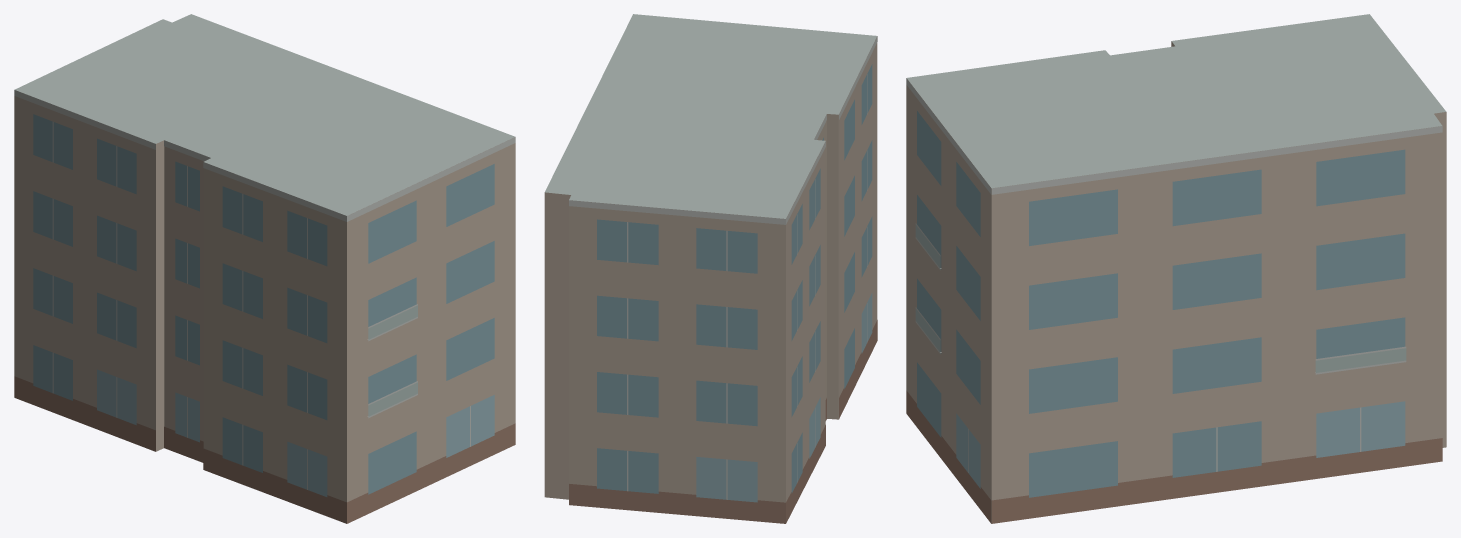
The model's file is survey-upis-32612482.glb.
3 views of the same model, side by side, from view 1: azimuth 30°, elevation 25°; view 2: azimuth 150°, elevation 25°; view 3: azimuth 270°, elevation 25° (orthographic). The views are drawn at different scales.
Visible parts, largest first — view 1: survey-upis-32612482.tmp; view 2: survey-upis-32612482.tmp; view 3: survey-upis-32612482.tmp.
Boxes of the visible parts, x1,y1,x2,y2 form: survey-upis-32612482.tmp: (14, 14, 515, 523); survey-upis-32612482.tmp: (544, 14, 877, 523); survey-upis-32612482.tmp: (906, 14, 1446, 523).
Bounding box in the file's own units: 13.82 × 12.4 × 18.1.
